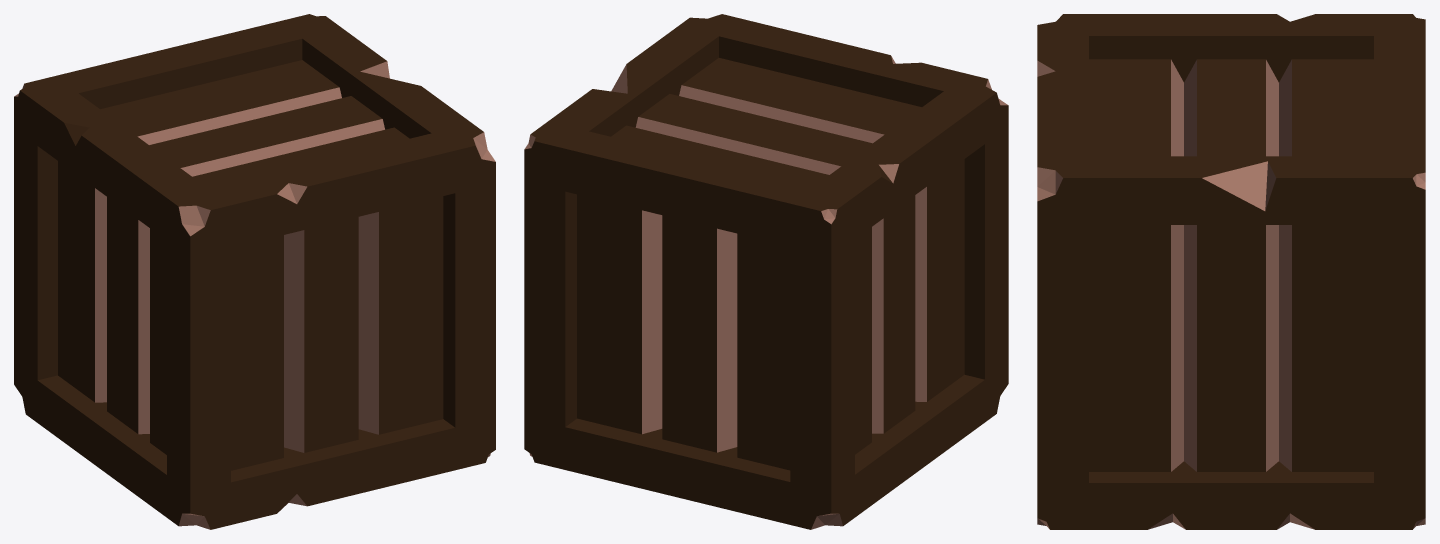
File: Crate.fbx
The picture shows the model from 3 angles, left to right: view 1: azimuth 30°, elevation 25°; view 2: azimuth 150°, elevation 25°; view 3: azimuth 270°, elevation 25°; orthographic projection. The views are drawn at different scales.
Parts seen in each view (by area): view 1: Crate; view 2: Crate; view 3: Crate.
Boxes of the visible parts, bbox=[...] form: Crate: bbox=[14, 14, 495, 529]; Crate: bbox=[524, 14, 1008, 529]; Crate: bbox=[1037, 14, 1425, 529].
Bounding box in the file's own units: 150 × 150 × 150.
